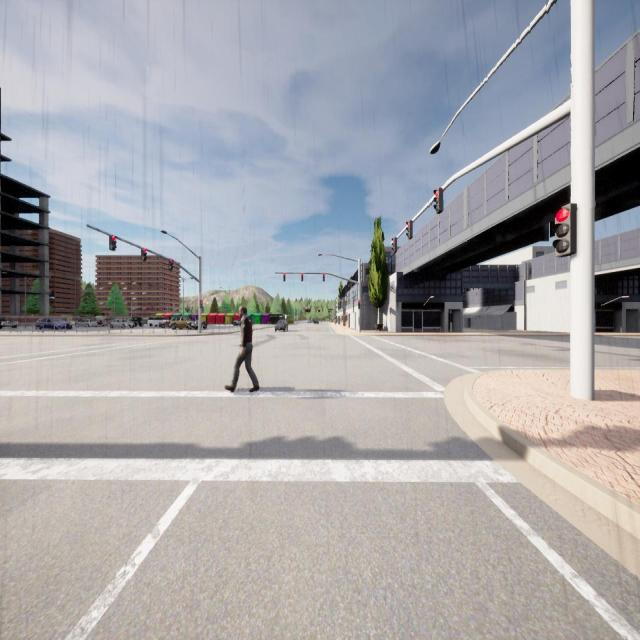Pedestrian: (225, 306, 259, 392)
Vehicle: (35, 316, 72, 330), (169, 315, 195, 331), (110, 318, 134, 329), (147, 316, 168, 328), (0, 316, 18, 329), (274, 320, 288, 332), (75, 318, 91, 328), (192, 320, 207, 330), (131, 317, 144, 327), (95, 317, 108, 327), (159, 321, 170, 328), (233, 319, 241, 326), (314, 319, 319, 325), (306, 319, 312, 324)
traffic_light: (552, 204, 577, 257), (433, 188, 443, 214), (109, 235, 117, 251), (406, 220, 412, 239), (392, 237, 397, 253), (141, 248, 147, 261), (168, 258, 174, 270), (200, 300, 203, 308), (358, 300, 360, 309), (283, 273, 285, 281), (323, 273, 325, 281), (301, 273, 303, 281)
